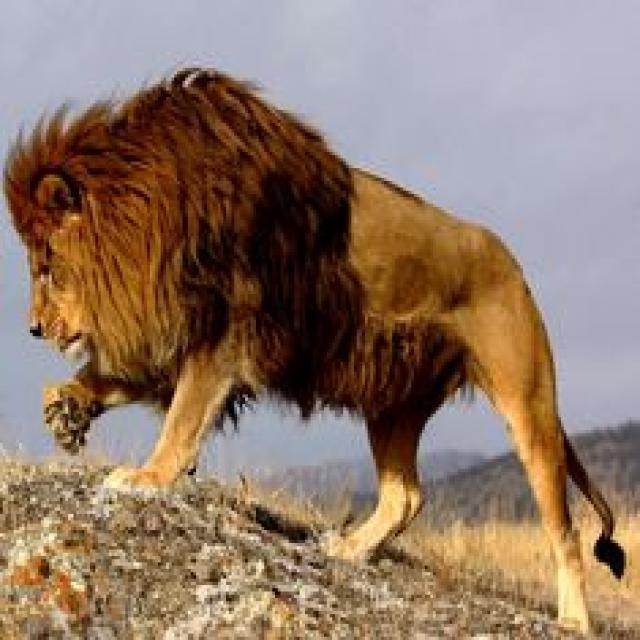lions: (0, 22, 640, 630)
